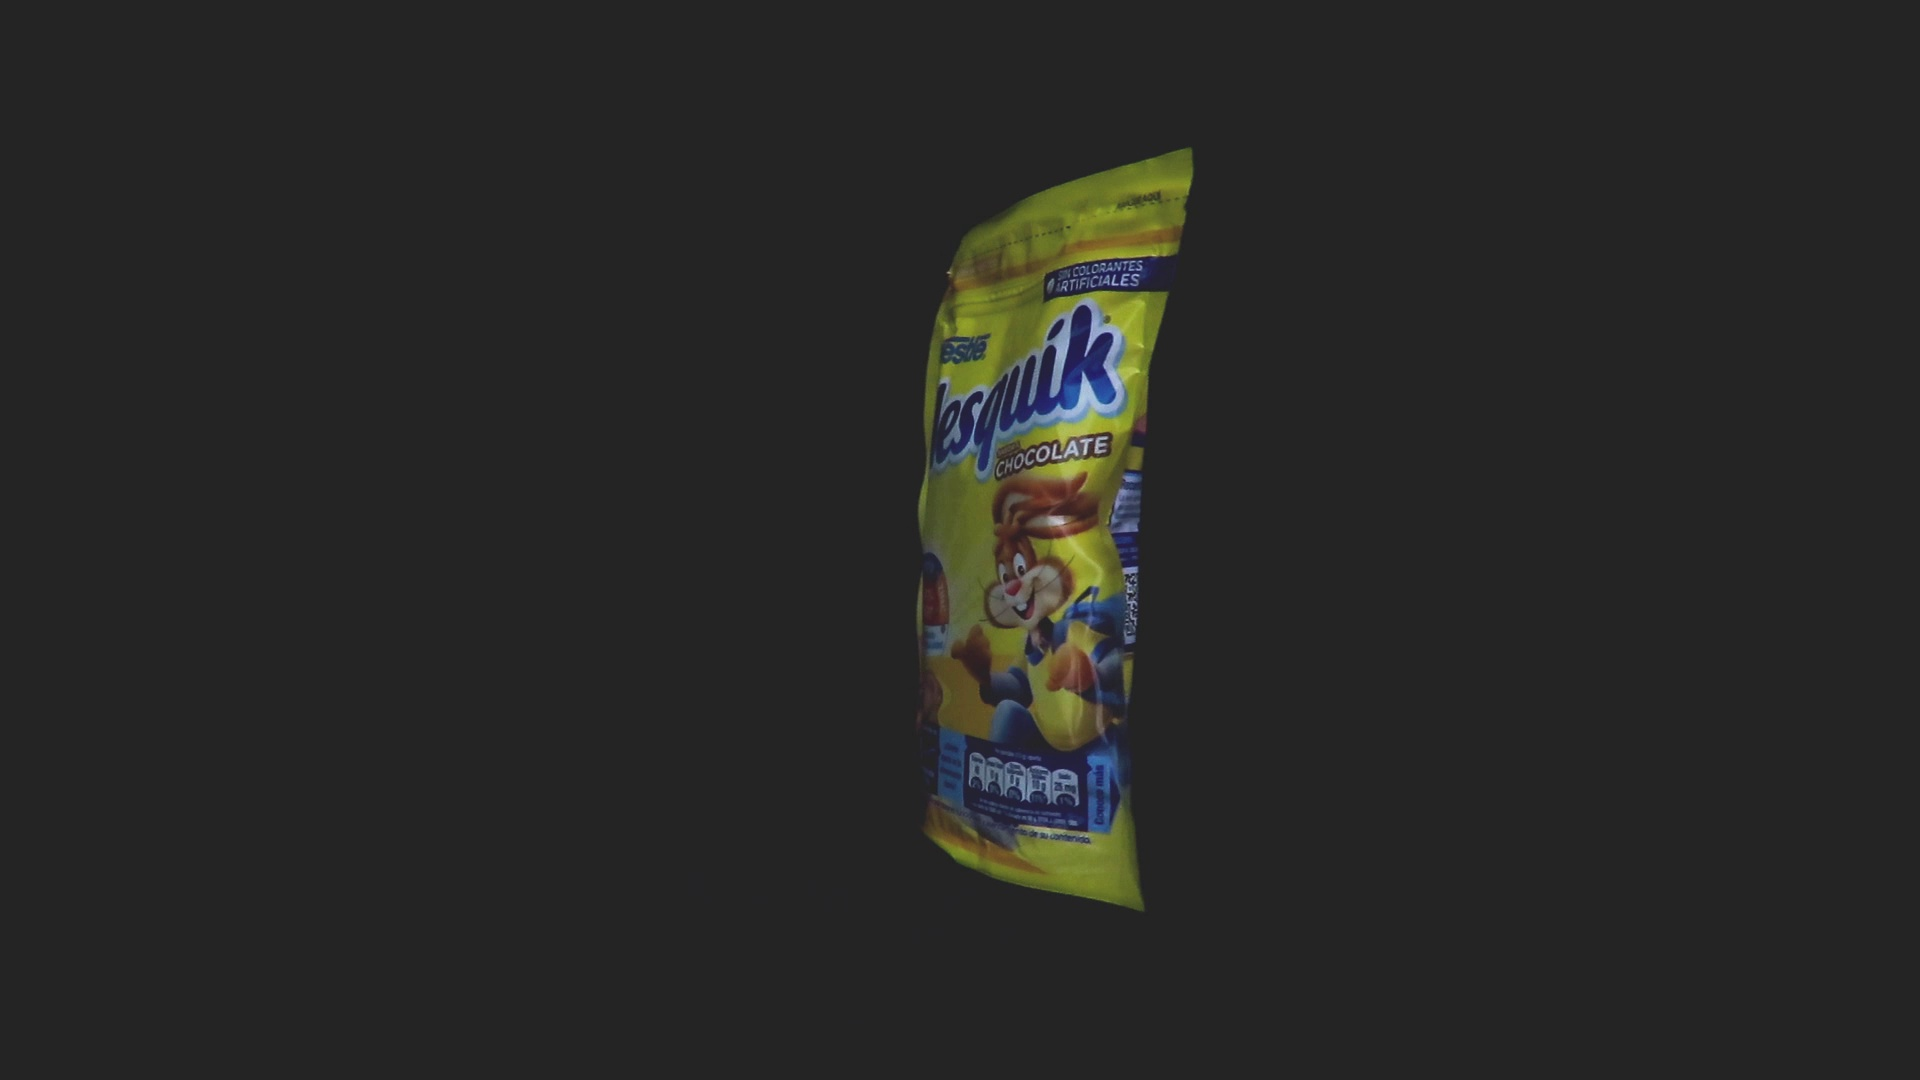COL0170303DYP20000: (913, 142, 1200, 918)
